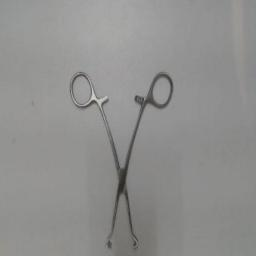Babcock Tissue Forceps: (67, 70, 177, 254)
